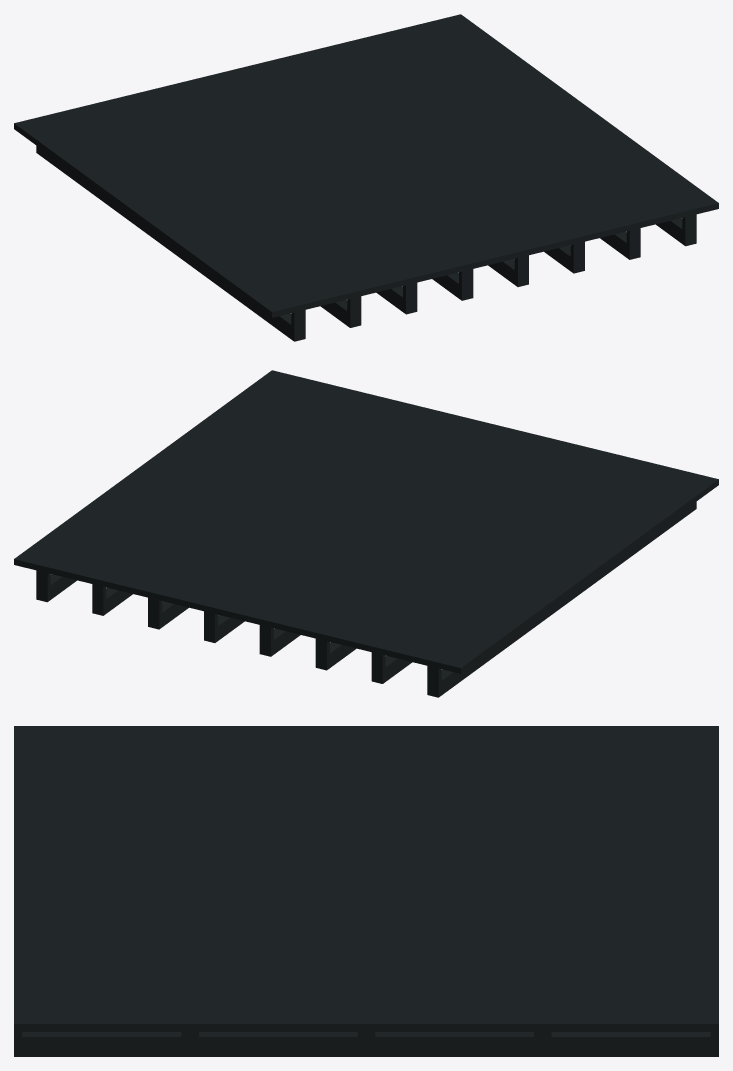
Rendered from Roof_Middle.glb.
The picture shows the model from 3 angles, top to bottom: view 1: azimuth 30°, elevation 25°; view 2: azimuth 150°, elevation 25°; view 3: azimuth 270°, elevation 25°; orthographic projection. The views are drawn at different scales.
Parts seen in each view (by area): view 1: Roof_Middle; view 2: Roof_Middle; view 3: Roof_Middle.
Part boxes in pixels (left/top/right/bottom): Roof_Middle: left=14, top=14, right=718, bottom=341; Roof_Middle: left=14, top=370, right=718, bottom=697; Roof_Middle: left=14, top=726, right=718, bottom=1056.
Bounding box in the file's own units: 8 × 2.21 × 8.
1 material, 1 textured.
